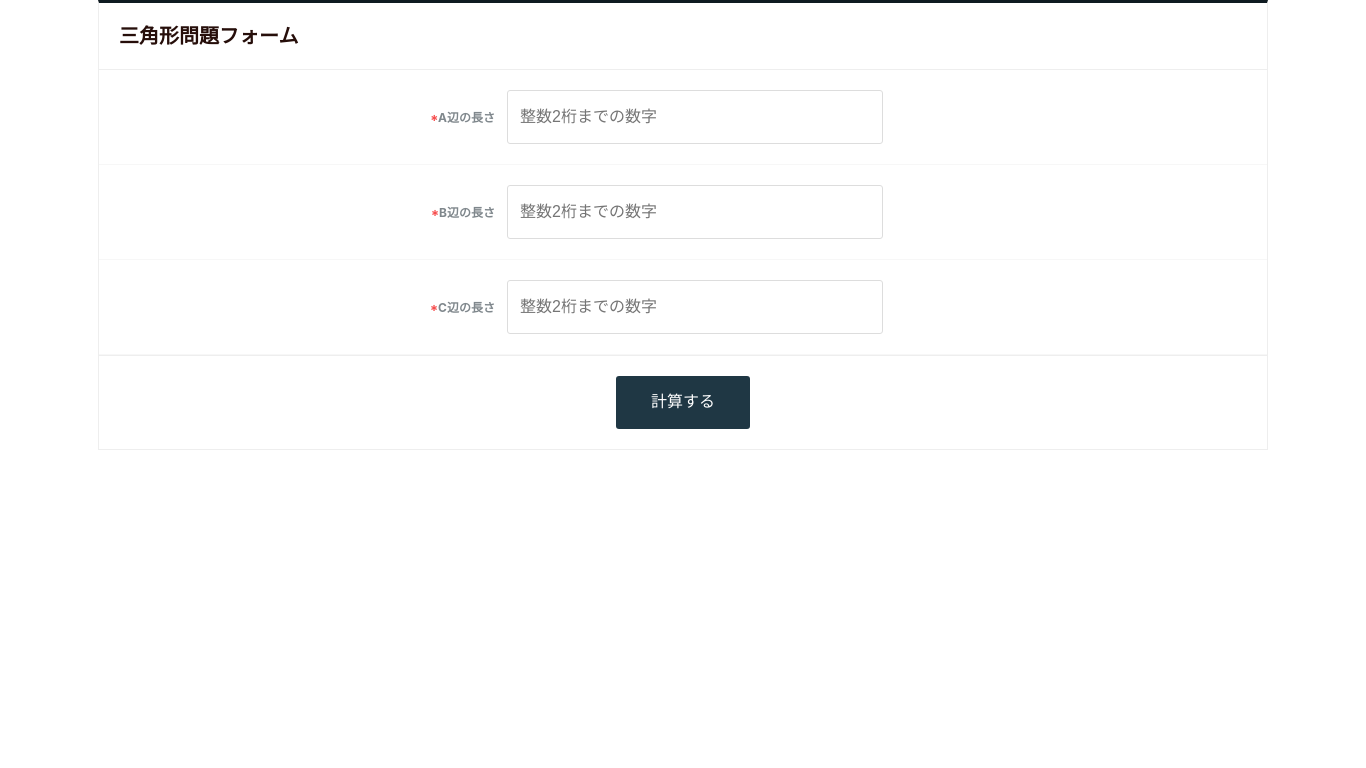
Scenario: 判定条件不備あり › 3つの辺の長さがどれも異なる場合、不等辺三角形と表示されること
The image size is (1366, 768).
Step 1. Type "97" into the field with id "length_a" → {"x": 695, "y": 117}, box [507, 90, 883, 144]
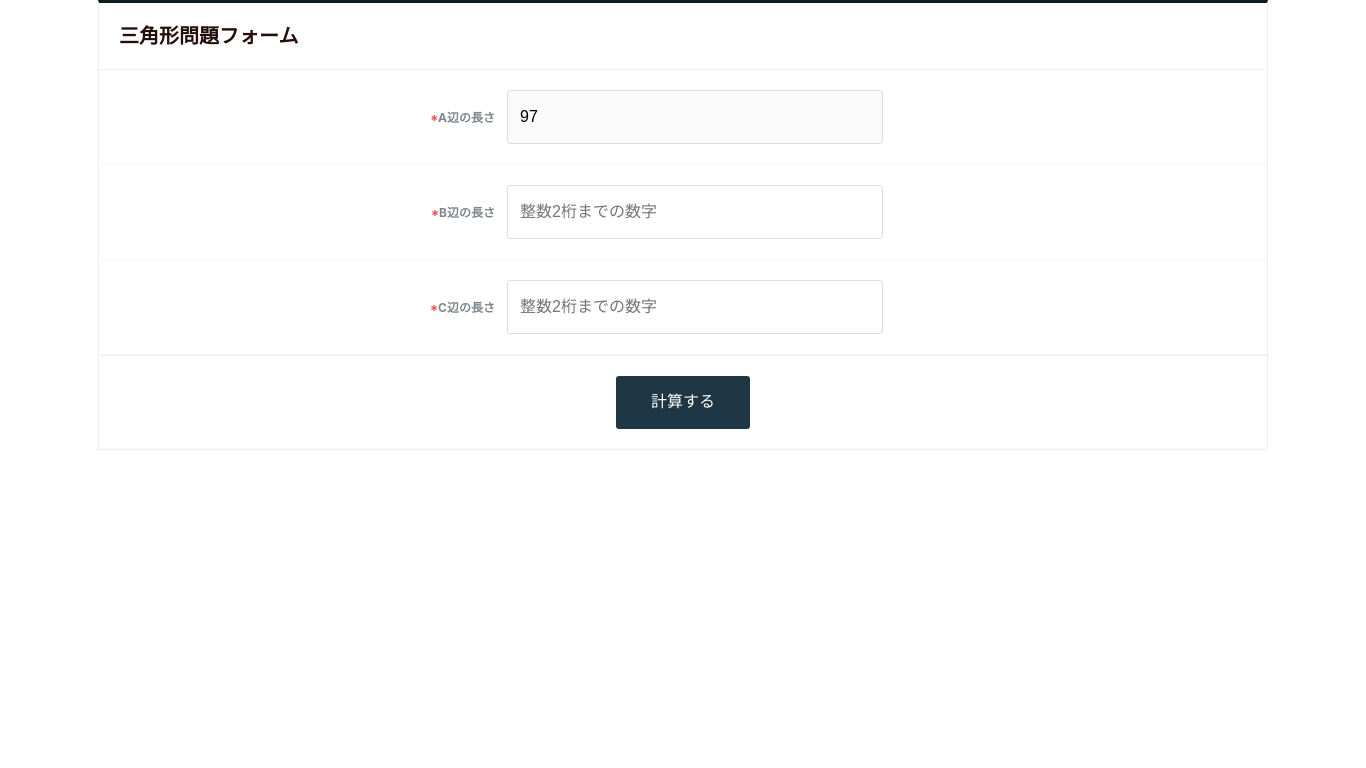
Step 2. Type "98" into the field with id "length_b" → {"x": 695, "y": 212}, box [507, 185, 883, 239]
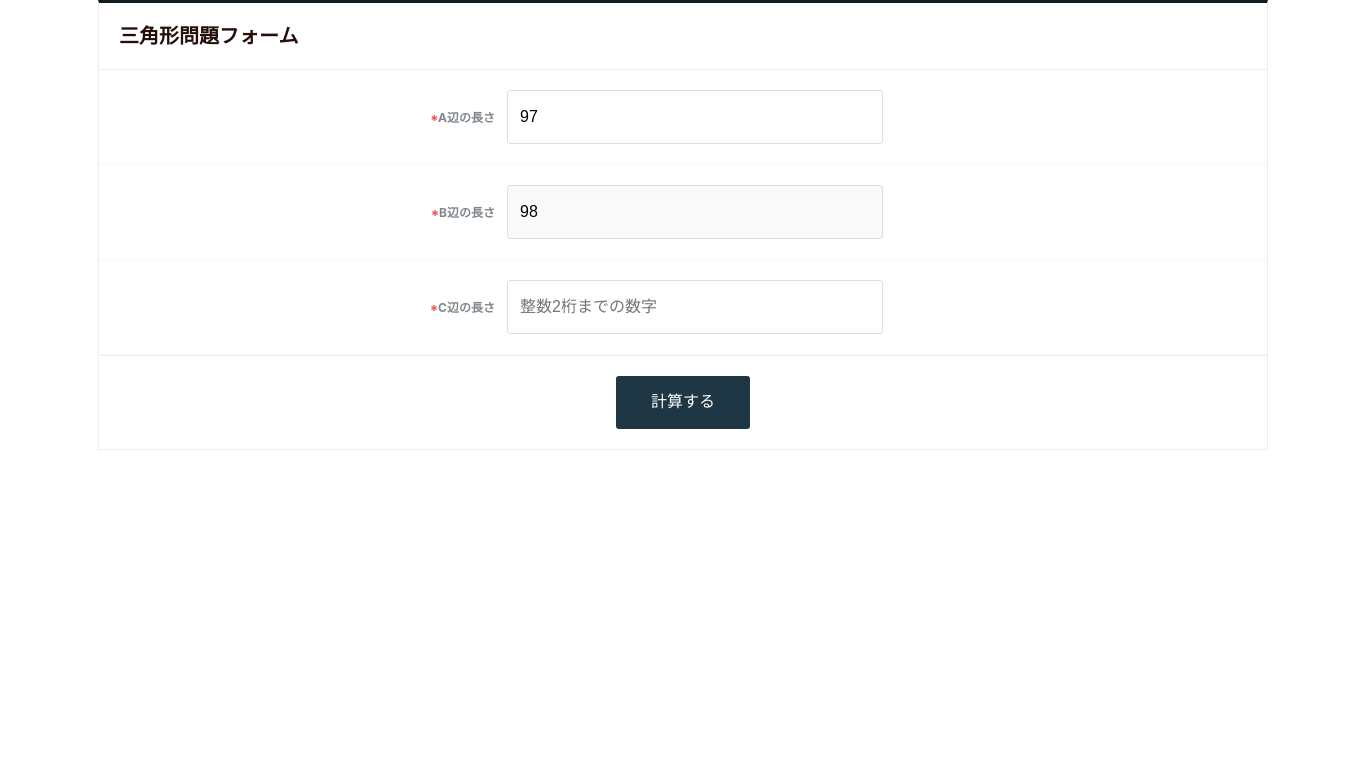
Step 3. Type "99" into the field with id "length_c" → {"x": 695, "y": 307}, box [507, 280, 883, 334]
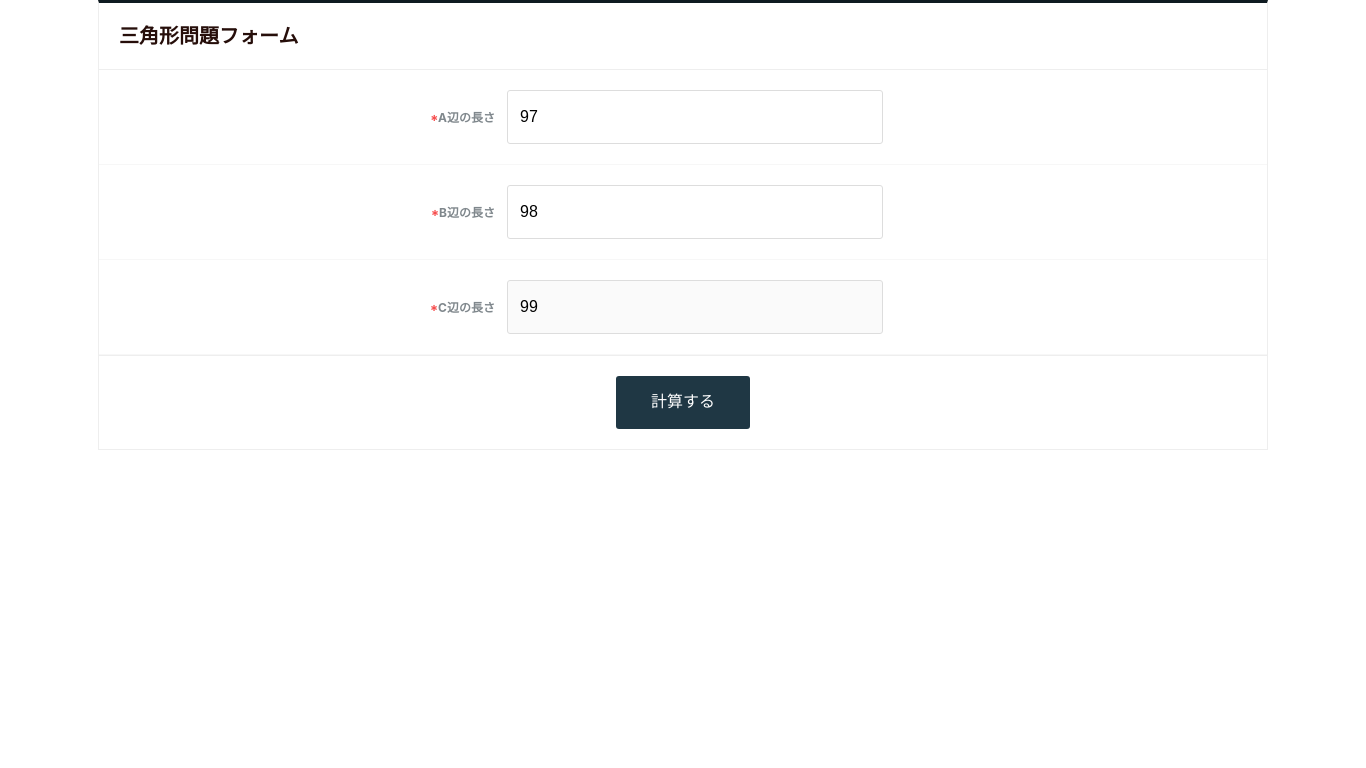
Step 4. Submit the form, box [99, 70, 1267, 449]
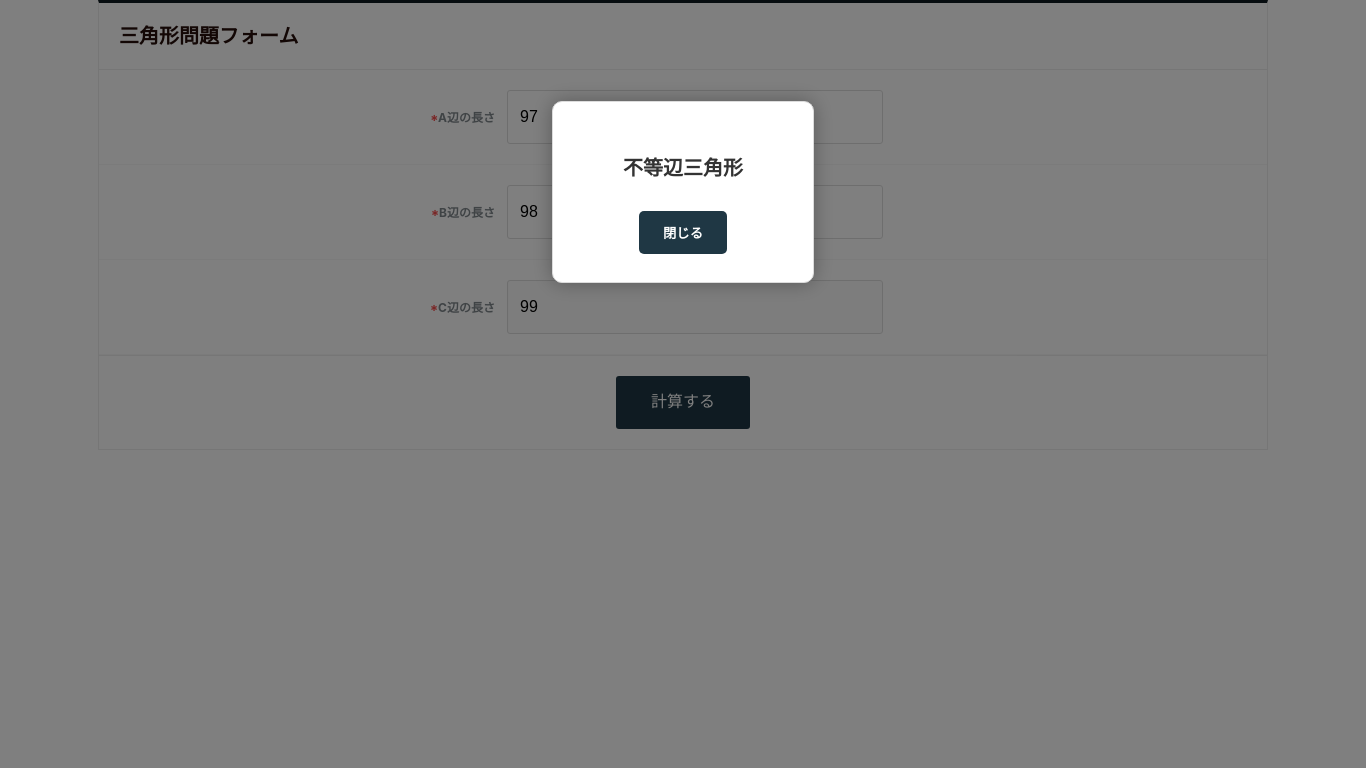
Now the text with id "modal-message" reads "不等辺三角形", box [623, 156, 743, 180]
